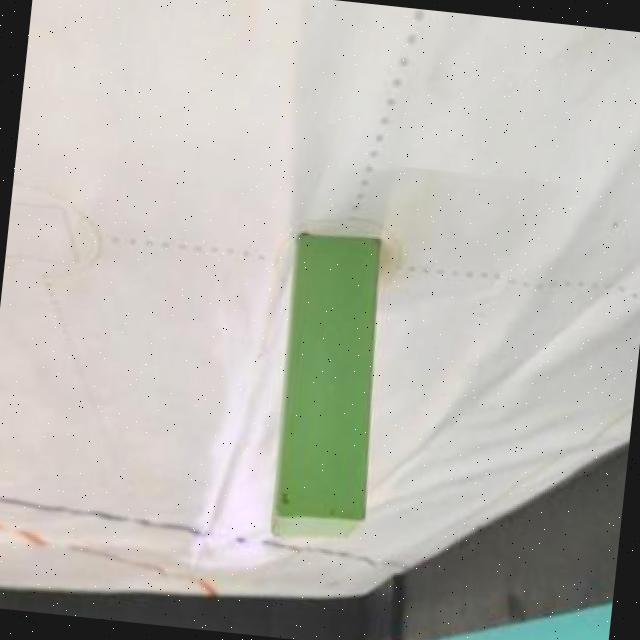greenbox: (264, 232, 395, 551)
